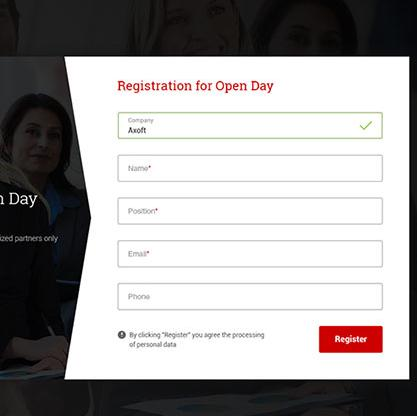button: (318, 325, 383, 354)
field: (117, 111, 383, 139), (117, 153, 383, 181), (117, 196, 383, 224), (118, 239, 384, 267), (118, 281, 384, 309)
